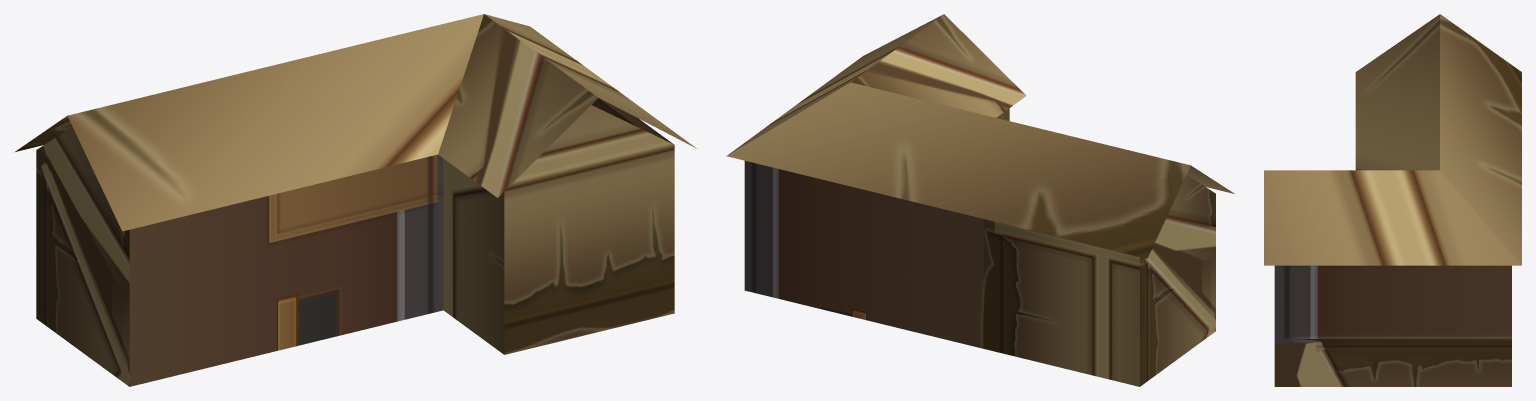
File: Sce_worldmap_bothy_03.FBX
3 renders of one model, left to right at view 1: azimuth 30°, elevation 25°; view 2: azimuth 150°, elevation 25°; view 3: azimuth 270°, elevation 25°, orthographic. The views are drawn at different scales.
Parts seen in each view (by area): view 1: Sec_worldmap_bothy03; view 2: Sec_worldmap_bothy03; view 3: Sec_worldmap_bothy03.
Part boxes in pixels (left/top/right/bottom): Sec_worldmap_bothy03: left=14, top=14, right=696, bottom=386; Sec_worldmap_bothy03: left=726, top=14, right=1234, bottom=386; Sec_worldmap_bothy03: left=1264, top=14, right=1521, bottom=386.
Size of the model in its own units: 165 by 73.61 by 92.82.
Materials: 1 (1 with a texture image).
